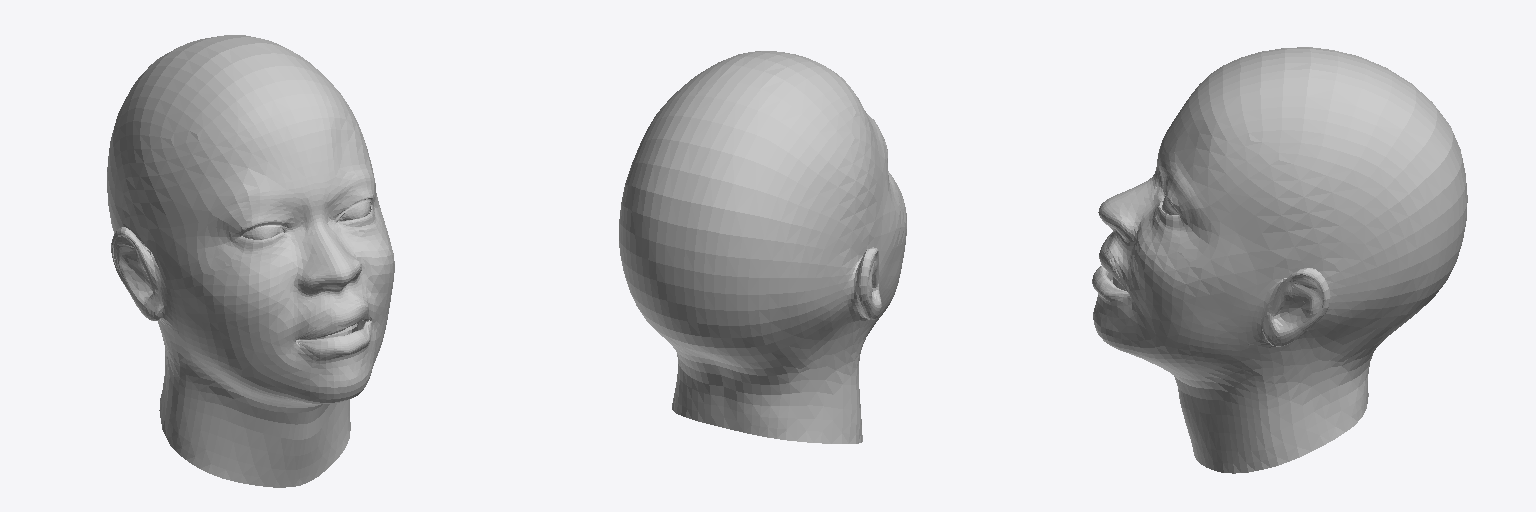
File: Jane_hi_all_ExpressionDisgust.obj
3 renders of one model, left to right at view 1: azimuth 30°, elevation 25°; view 2: azimuth 150°, elevation 25°; view 3: azimuth 270°, elevation 25°, orthographic.
Visible parts, largest first — view 1: FaceGen; view 2: FaceGen; view 3: FaceGen.
Part boxes in pixels (x1,y1,x2,y2): FaceGen: (107,35,394,487); FaceGen: (619,51,906,443); FaceGen: (1092,47,1467,473).
Size of the model in its own units: 181 by 281 by 241.